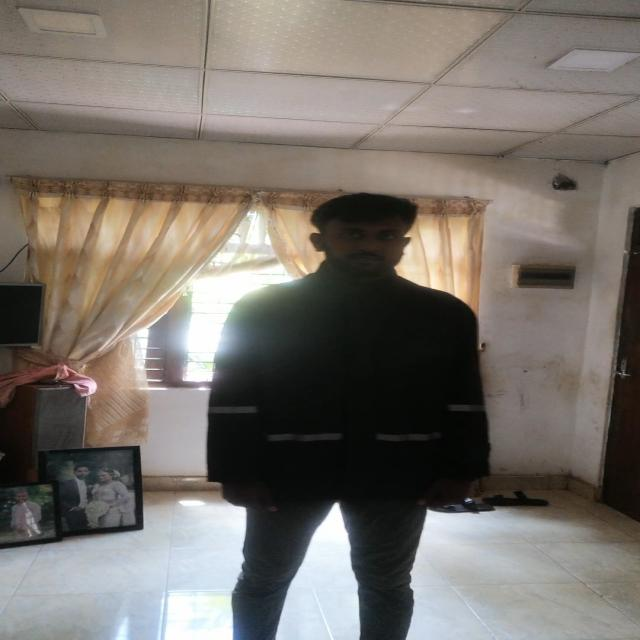Jacket_Wearer: (204, 262, 495, 510)
Person: (182, 182, 495, 640)
